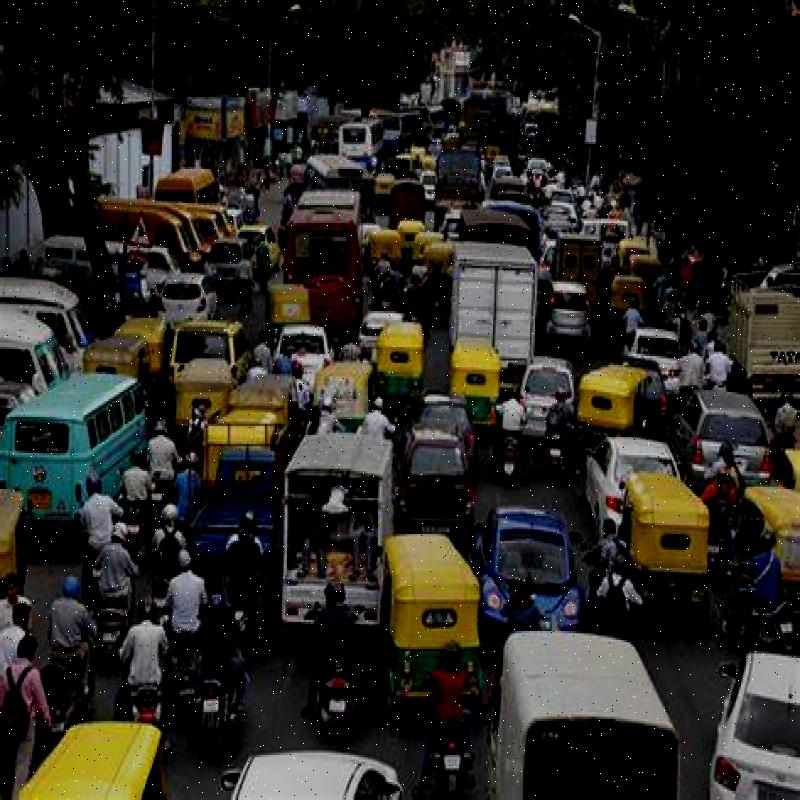auto: (378, 533, 488, 700), (39, 696, 187, 800), (625, 476, 715, 636), (579, 342, 659, 433), (455, 338, 503, 424), (375, 320, 427, 398)
bike: (306, 642, 368, 739), (197, 656, 244, 759), (426, 711, 478, 800), (492, 416, 526, 484), (545, 416, 573, 485)
car: (692, 627, 800, 800), (398, 422, 475, 538), (579, 430, 633, 528)
